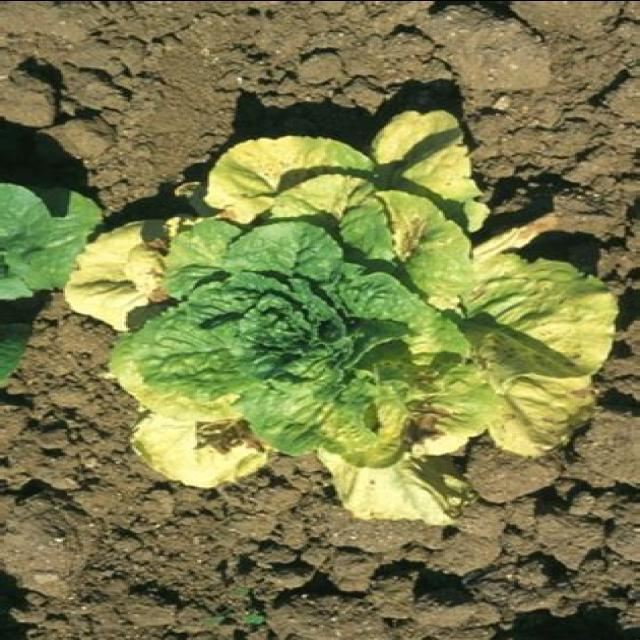Lettuce: (76, 111, 614, 518)
